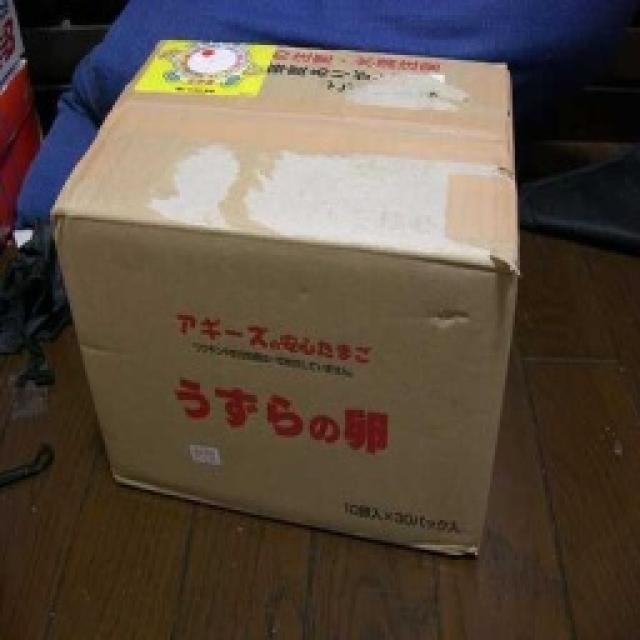box: (59, 23, 540, 590)
